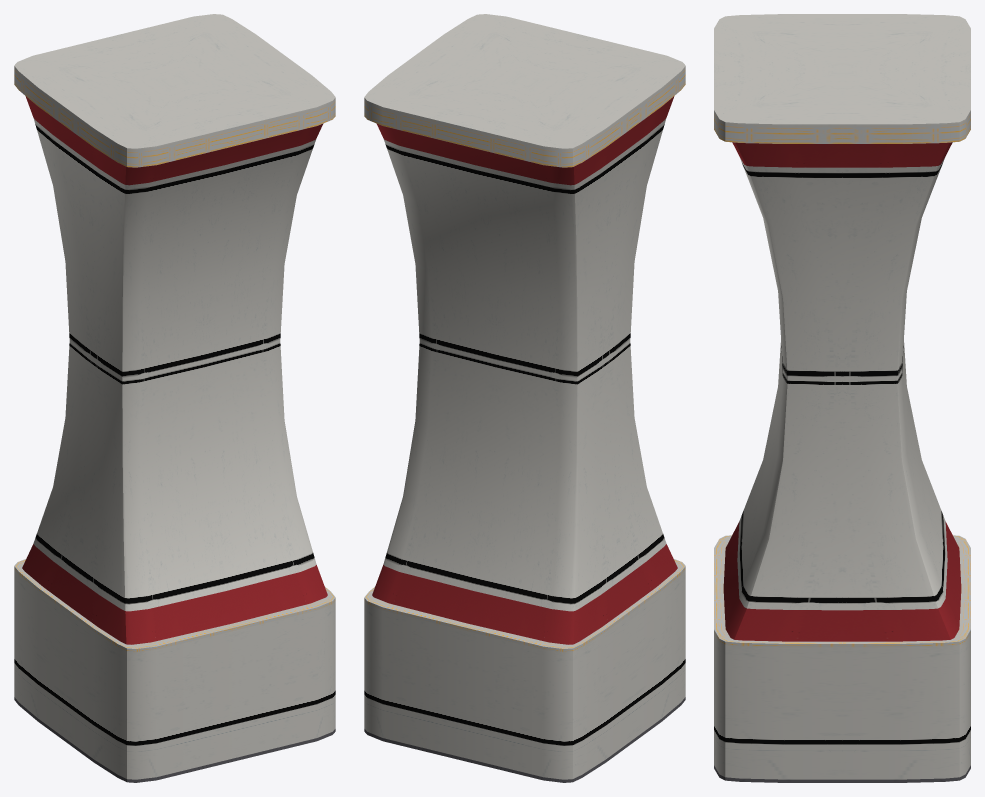
Rendered from G_Env_Arch_Pillar_00_CurvedInner.fbx.
The picture shows the model from 3 angles, left to right: view 1: azimuth 30°, elevation 25°; view 2: azimuth 150°, elevation 25°; view 3: azimuth 270°, elevation 25°; orthographic projection. The views are drawn at different scales.
Parts seen in each view (by area): view 1: G_Env_Arch_Pillar_00_CurvedInner; view 2: G_Env_Arch_Pillar_00_CurvedInner; view 3: G_Env_Arch_Pillar_00_CurvedInner.
Boxes of the visible parts, x1,y1,x2,y2 form: G_Env_Arch_Pillar_00_CurvedInner: (14,14,335,782); G_Env_Arch_Pillar_00_CurvedInner: (364,14,685,782); G_Env_Arch_Pillar_00_CurvedInner: (714,14,970,782).
Size of the model in its own units: 324 by 900 by 318.
